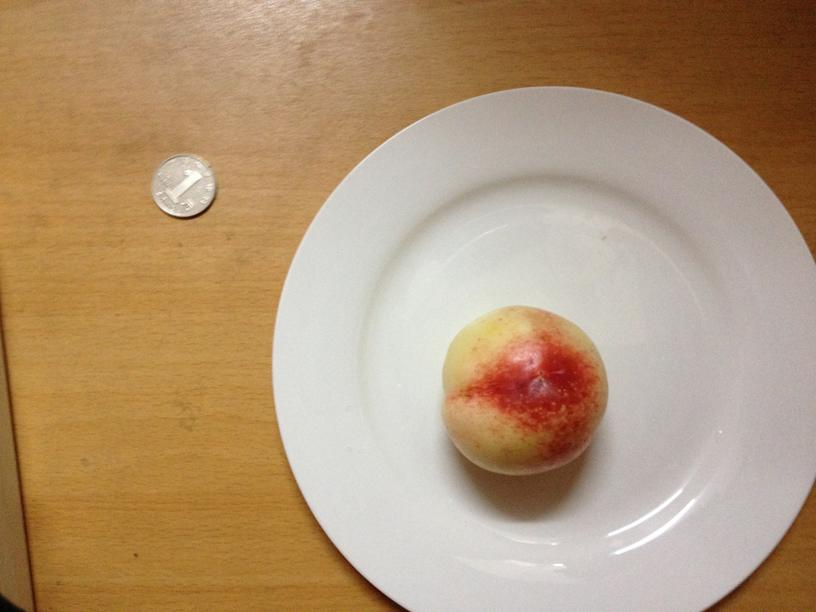coin: (149, 151, 215, 220)
peach: (441, 306, 607, 474)
